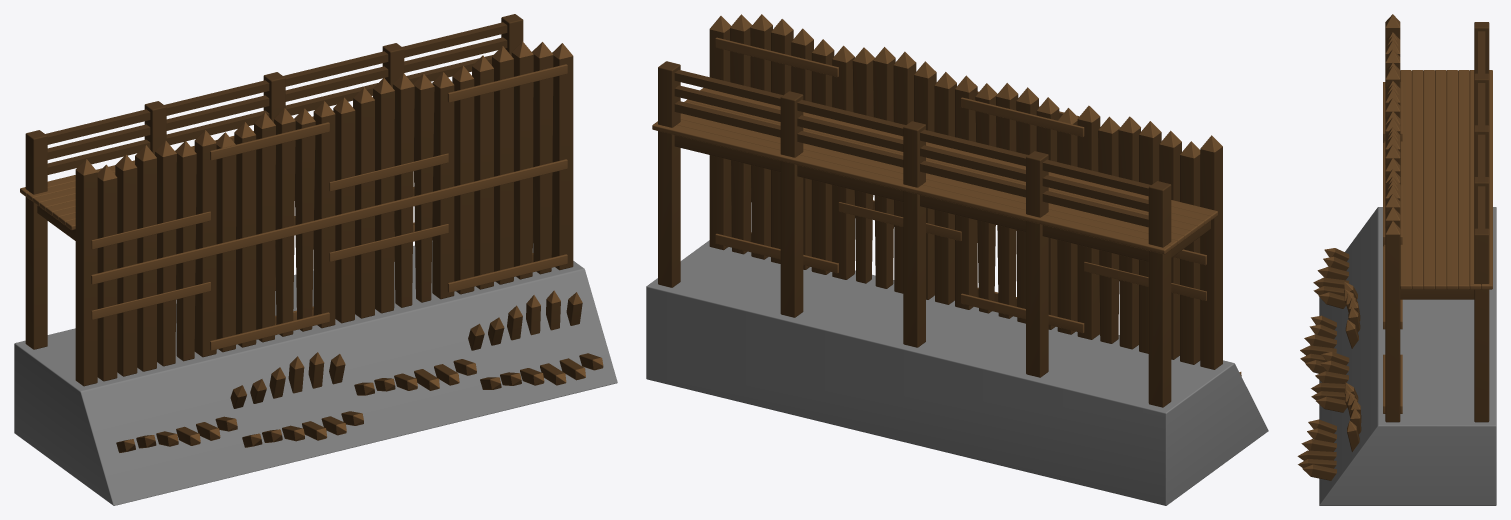
The model's file is Medieval Defence Walls.glb.
3 renders of one model, left to right at view 1: azimuth 30°, elevation 25°; view 2: azimuth 150°, elevation 25°; view 3: azimuth 270°, elevation 25°, orthographic. The views are drawn at different scales.
Parts seen in each view (by area): view 1: Wall (×25), Base, Support (×9), Railing (×11), Legs (×4); view 2: Base, Wall (×25), Legs (×5), Railing (×12), Plank (×6), Support (×7); view 3: Base, Plank (×8), Legs (×5), Wall, Spike (×7), Railing (×4), Support (×2).
Part boxes in pixels (<box>): Wall (×25): <box>75,52,573,386</box>; Base: <box>14,241,617,505</box>; Support (×9): <box>91,64,567,350</box>; Railing (×11): <box>45,22,507,174</box>; Legs (×4): <box>25,43,404,349</box>; Base: <box>646,240,1268,505</box>; Wall (×25): <box>709,26,1222,369</box>; Legs (×5): <box>658,61,1171,407</box>; Railing (×12): <box>674,70,1150,227</box>; Plank (×6): <box>652,87,1217,254</box>; Support (×7): <box>674,37,1206,333</box>; Base: <box>1319,207,1496,505</box>; Plank (×8): <box>1400,70,1492,289</box>; Legs (×5): <box>1474,22,1489,422</box>; Wall: <box>1385,234,1400,422</box>; Spike (×7): <box>1307,292,1348,480</box>; Railing (×4): <box>1478,31,1485,228</box>; Support (×2): <box>1383,141,1474,329</box>.
Bounding box in the file's own units: 8.75 × 5.39 × 3.36.
